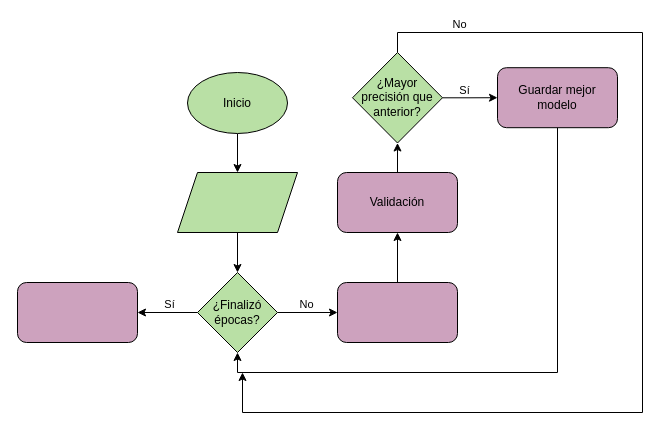
Image size: 668x438. Some labels were removed from this diagram. Here are the shapes that lost their labels. From the top down, the centre of each, then its label:
At point 237,202: "Carga de imágenes".
At point 77,312: "Guarda modelo".
At point 397,312: "Entrenar modelo".
